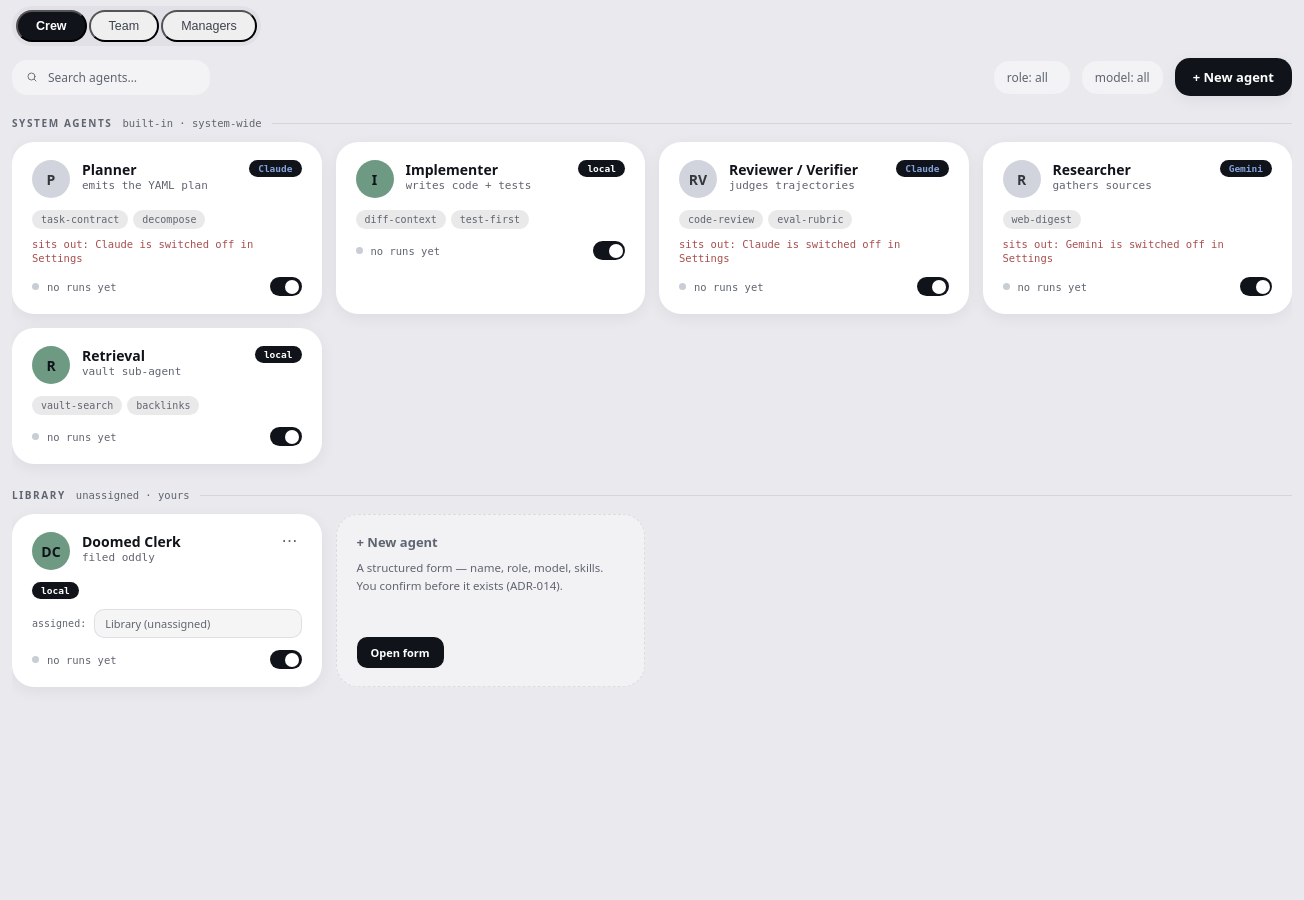
Test: Agents page — the vault file rides every mutation › the two-step delete removes the agent's REAL file — sourcePath, not the slug guess
Click the button named "actions for Doomed Clerk". click: (290, 540)
box: [278,532,302,548]
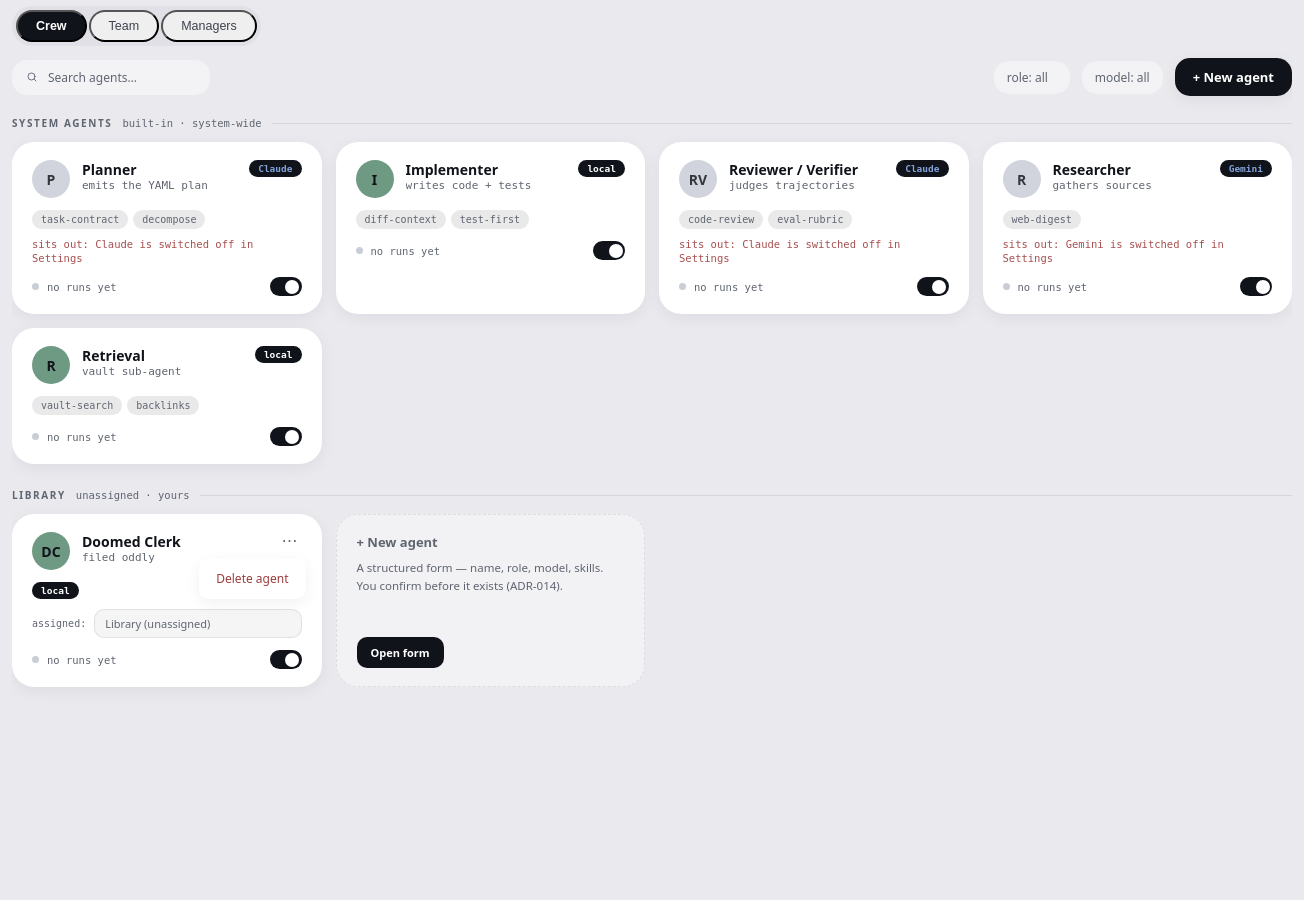
Click the button with aria-label "Delete Doomed Clerk". click: (252, 579)
box: [204,563,301,594]
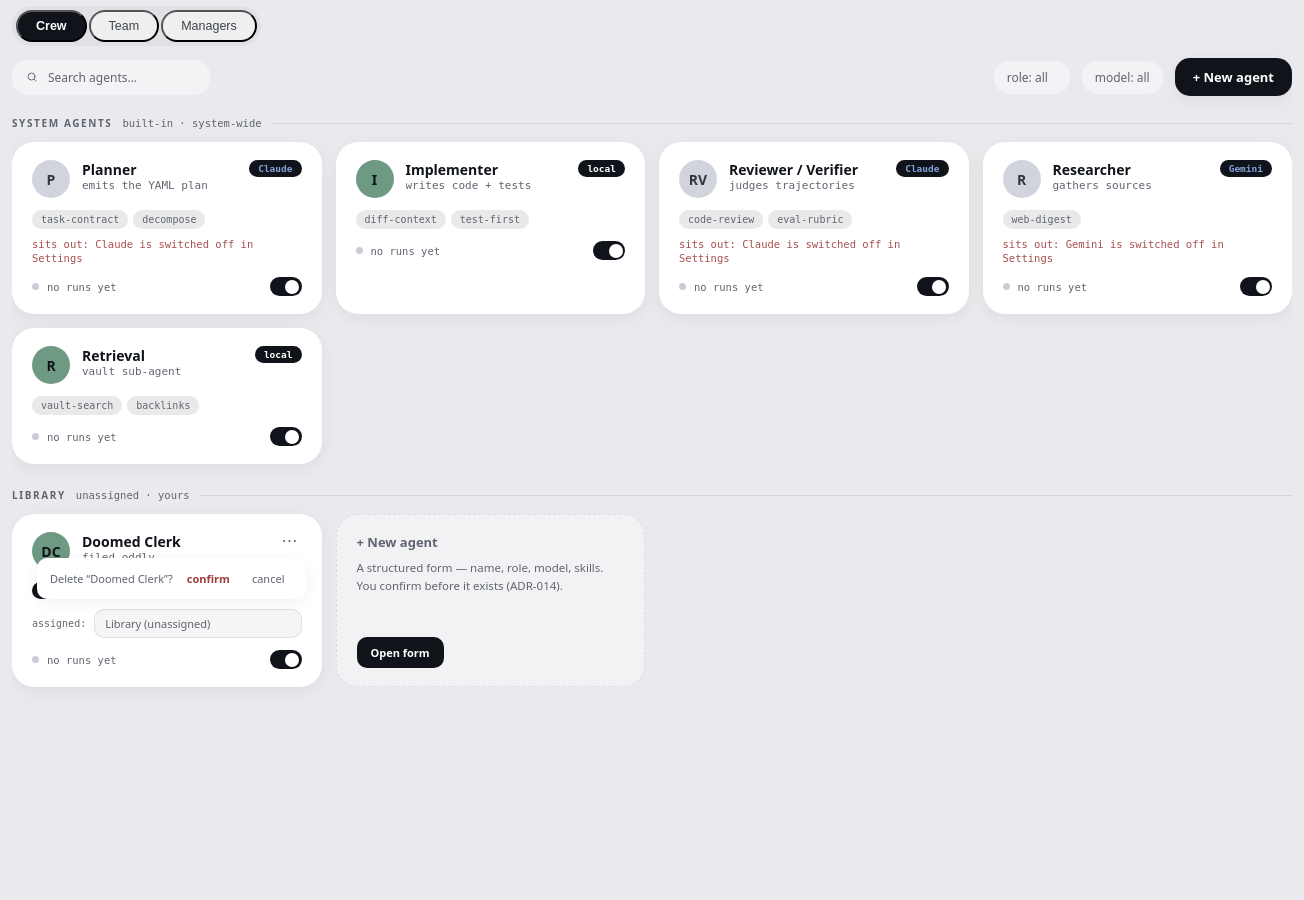
Click the button with aria-label "confirm delete Doomed Clerk". click: (208, 579)
box: [179,567,238,590]
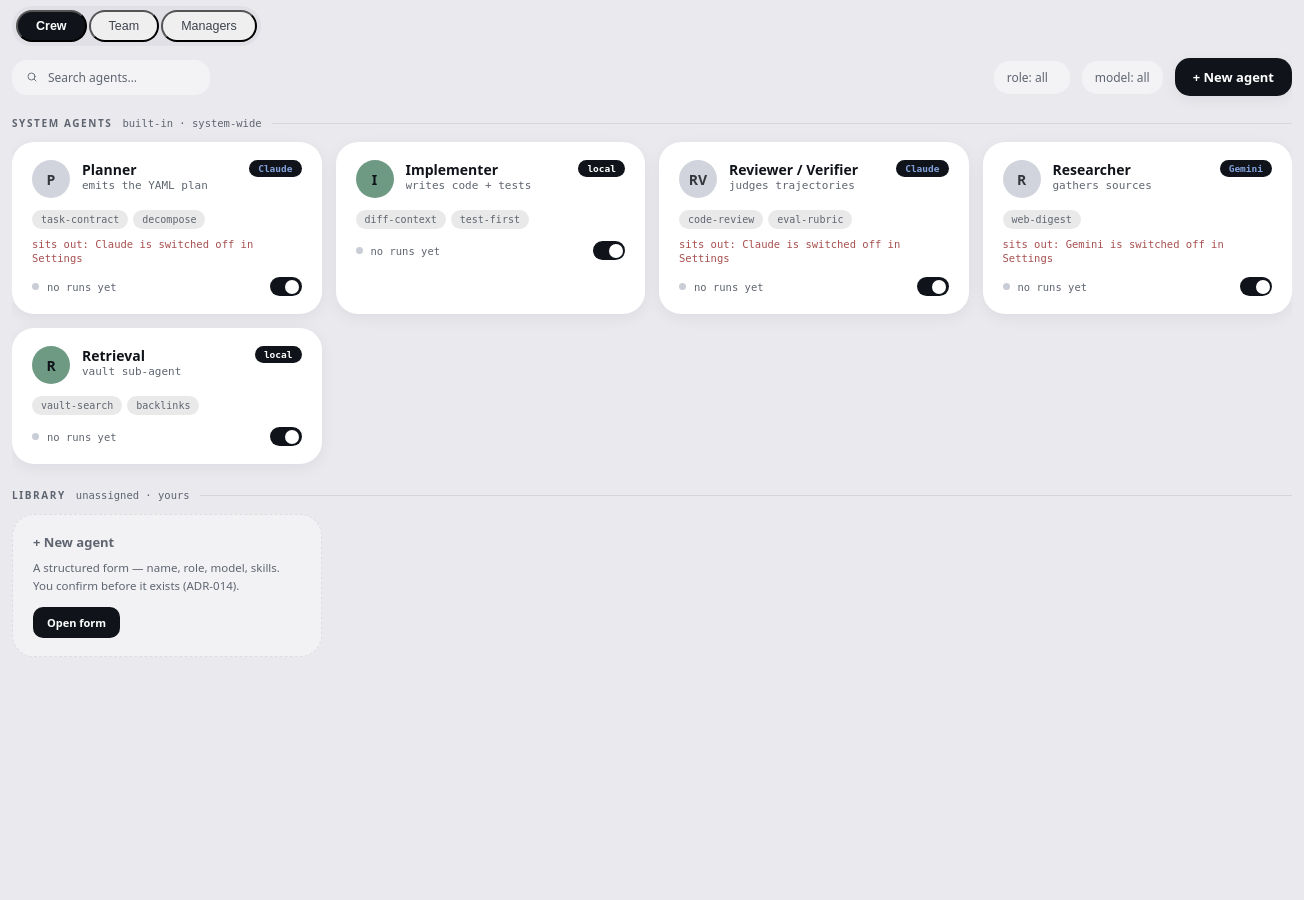
Now the link "Doomed Clerk" is gone
